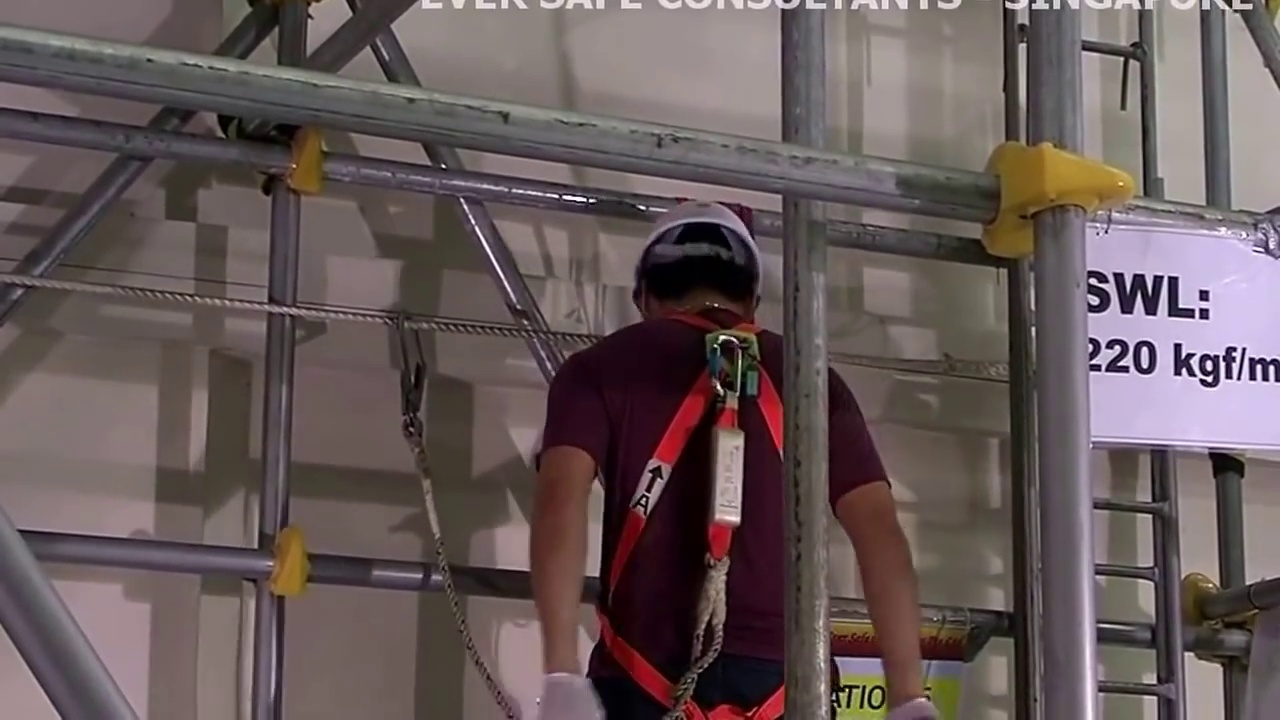harness: (621, 343, 786, 720)
helmet: (640, 202, 761, 242)
hook: (380, 302, 431, 413)
leash: (390, 424, 520, 716)
